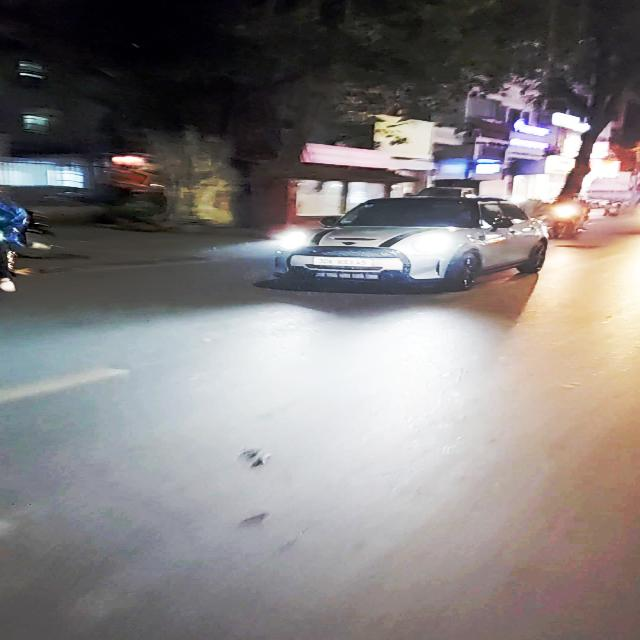license_plate: (311, 256, 379, 269)
